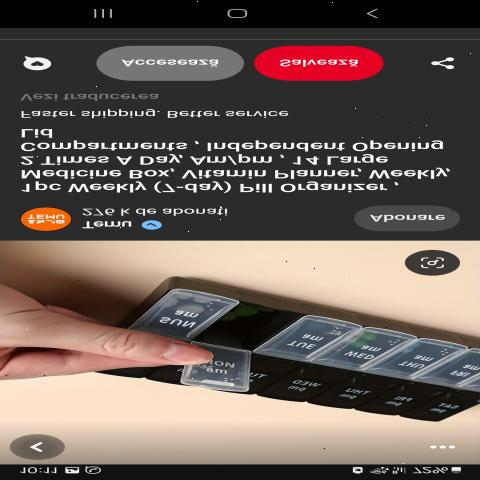PillBox: (46, 267, 480, 428)
